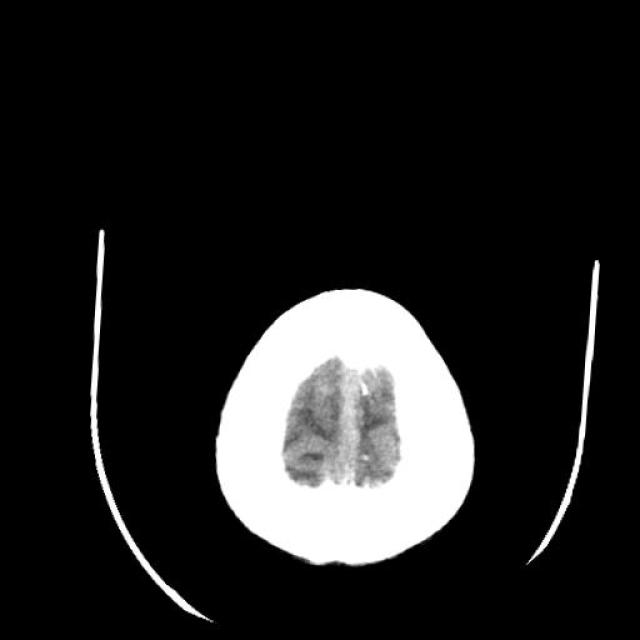Subdural: (306, 346, 378, 506)
